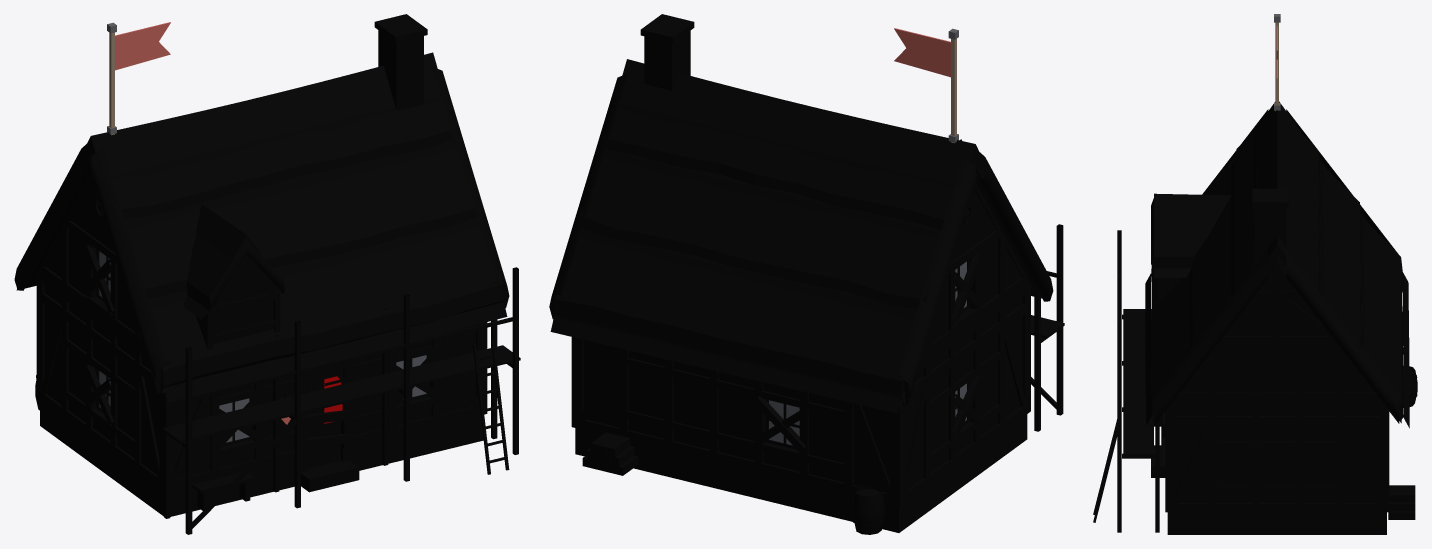
File: wohnhaus_halbling_s1_g2.glb
The picture shows the model from 3 angles, left to right: view 1: azimuth 30°, elevation 25°; view 2: azimuth 150°, elevation 25°; view 3: azimuth 270°, elevation 25°; orthographic projection. The views are drawn at different scales.
Parts seen in each view (by area): view 1: Dach, Haus, Geruest, Leerstand, Fahne, Scheiben; view 2: Dach, Haus, Geruest, Leerstand, Fahne, Scheiben; view 3: Haus, Dach, Geruest, Fahne.
Boxes of the visible parts, <box> form: Dach: <box>14,52,509,402</box>; Haus: <box>35,14,487,516</box>; Geruest: <box>162,267,520,534</box>; Leerstand: <box>83,245,441,449</box>; Fahne: <box>107,22,170,135</box>; Scheiben: <box>99,251,426,442</box>; Dach: <box>549,59,1053,413</box>; Haus: <box>571,14,1030,534</box>; Geruest: <box>1031,224,1064,431</box>; Leerstand: <box>753,252,983,452</box>; Fahne: <box>894,28,958,143</box>; Scheiben: <box>769,261,966,445</box>; Haus: <box>1151,188,1417,534</box>; Dach: <box>1145,101,1409,428</box>; Geruest: <box>1093,230,1159,532</box>; Fahne: <box>1274,14,1280,111</box>.
Size of the model in its own units: 7.82 by 9.37 by 7.09.
